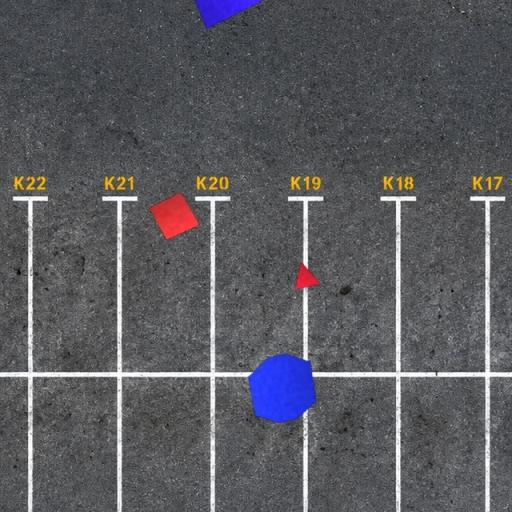RED_SQUARE: (148, 191, 201, 241)
